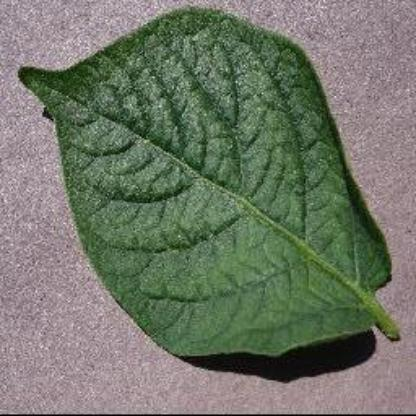Healthy-plant: (9, 7, 412, 365)
